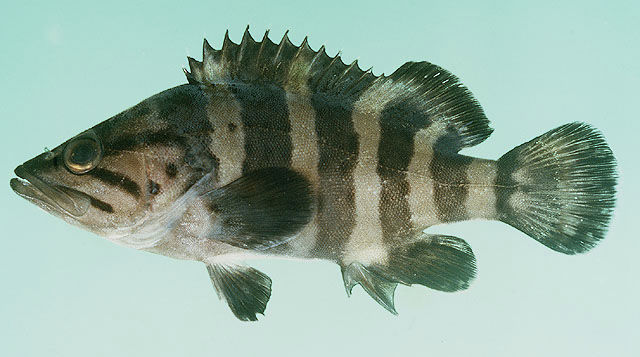fish: (10, 26, 617, 325)
